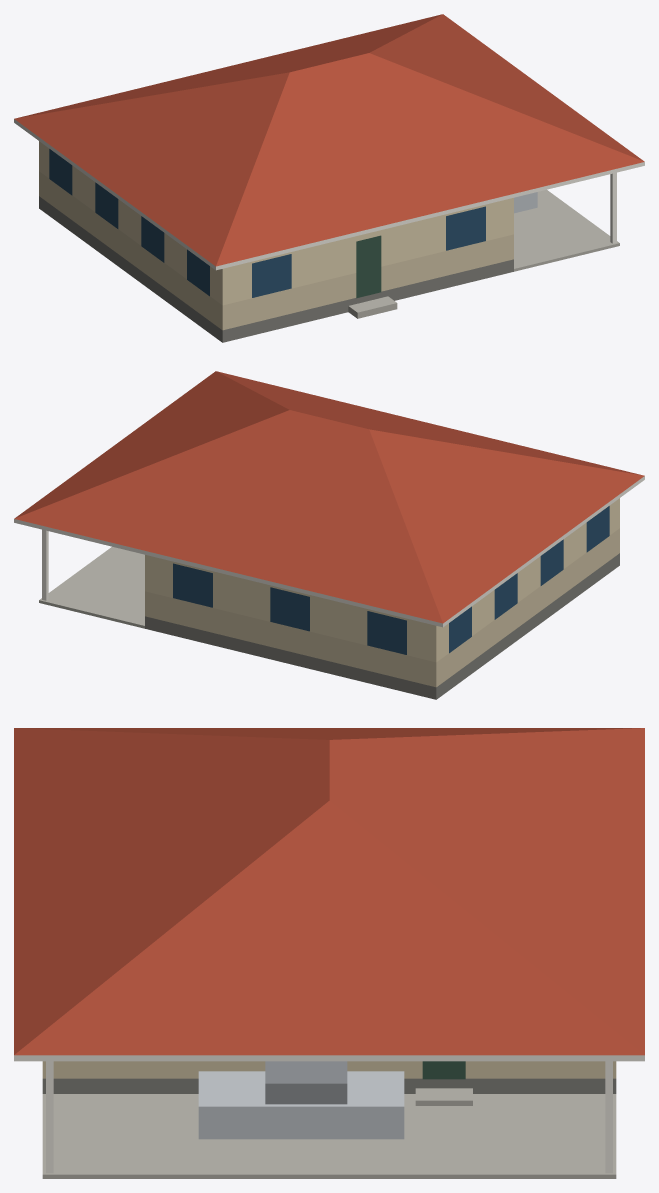
Rendered from house_15x12_lod1.glb.
3 renders of one model, top to bottom at view 1: azimuth 30°, elevation 25°; view 2: azimuth 150°, elevation 25°; view 3: azimuth 270°, elevation 25°, orthographic. The views are drawn at different scales.
Parts seen in each view (by area): view 1: house; view 2: house; view 3: house.
Part boxes in pixels (x1=…): house: x1=14, y1=14, x2=644, y2=342; house: x1=14, y1=371, x2=644, y2=699; house: x1=14, y1=728, x2=644, y2=1178.
Bounding box in the file's own units: 16.2 × 5.94 × 13.2.
